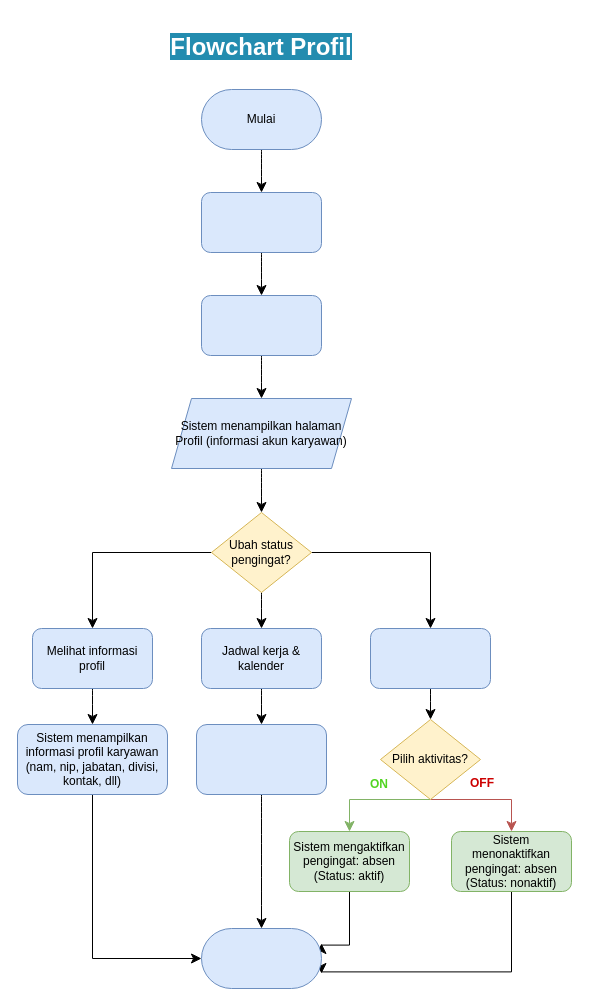
Some shapes in this 589 by 1006 pixel diagram are drawn without their labels. The centre of each missing label's shape, as x and y in pixels:
Karyawan berada di halaman beranda: point 261,222
Klik menu "Profil": point 261,325
Pengingat absen otomatis: point 430,658
Selesai: point 261,958
Sistem membuka halaman detail Jadwal Kerja & Kalender (yang di halaman beranda): point 261,759
